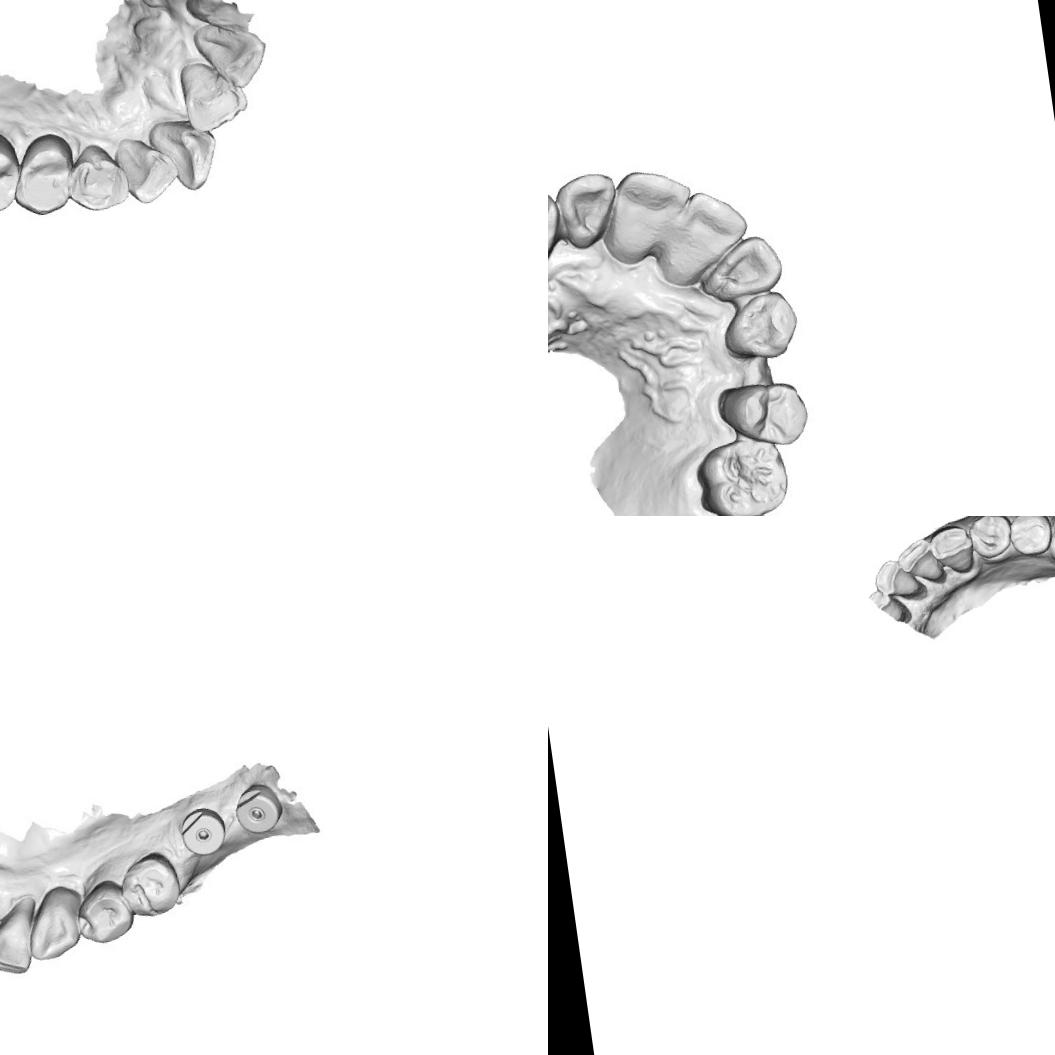canine: (716, 288, 805, 365), (20, 888, 84, 961), (926, 520, 979, 578), (548, 185, 565, 273)
implant: (176, 801, 230, 862), (232, 779, 286, 833)
incisor: (658, 184, 750, 292), (605, 163, 692, 268), (693, 232, 790, 306), (550, 166, 621, 252), (195, 15, 266, 84), (151, 118, 220, 188), (180, 60, 246, 128), (0, 890, 47, 982), (118, 140, 174, 202), (893, 535, 946, 587), (870, 554, 923, 602)
molar: (689, 428, 797, 516)
premolar: (711, 371, 812, 453), (11, 138, 79, 214), (122, 850, 182, 918), (67, 151, 128, 213), (77, 881, 135, 946), (0, 126, 25, 217), (966, 516, 1015, 562), (1006, 516, 1055, 560)
